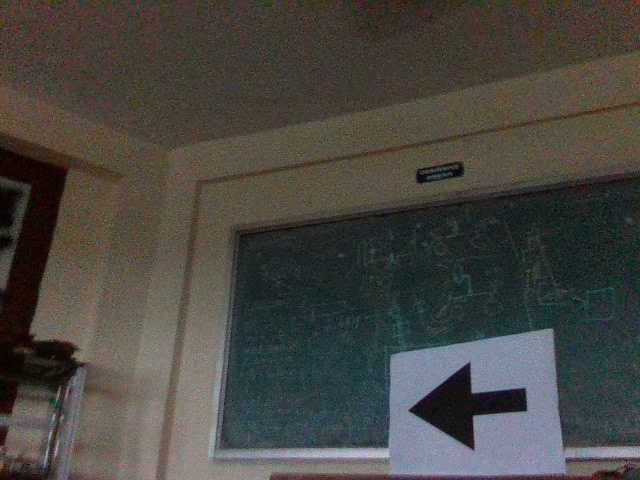Left: (404, 357, 529, 454)
